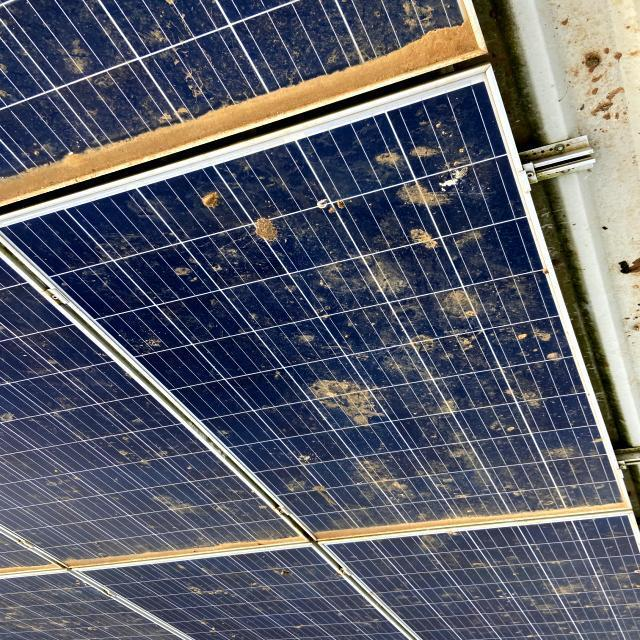soiled: (1, 65, 627, 569), (3, 0, 482, 187), (1, 520, 636, 639)
